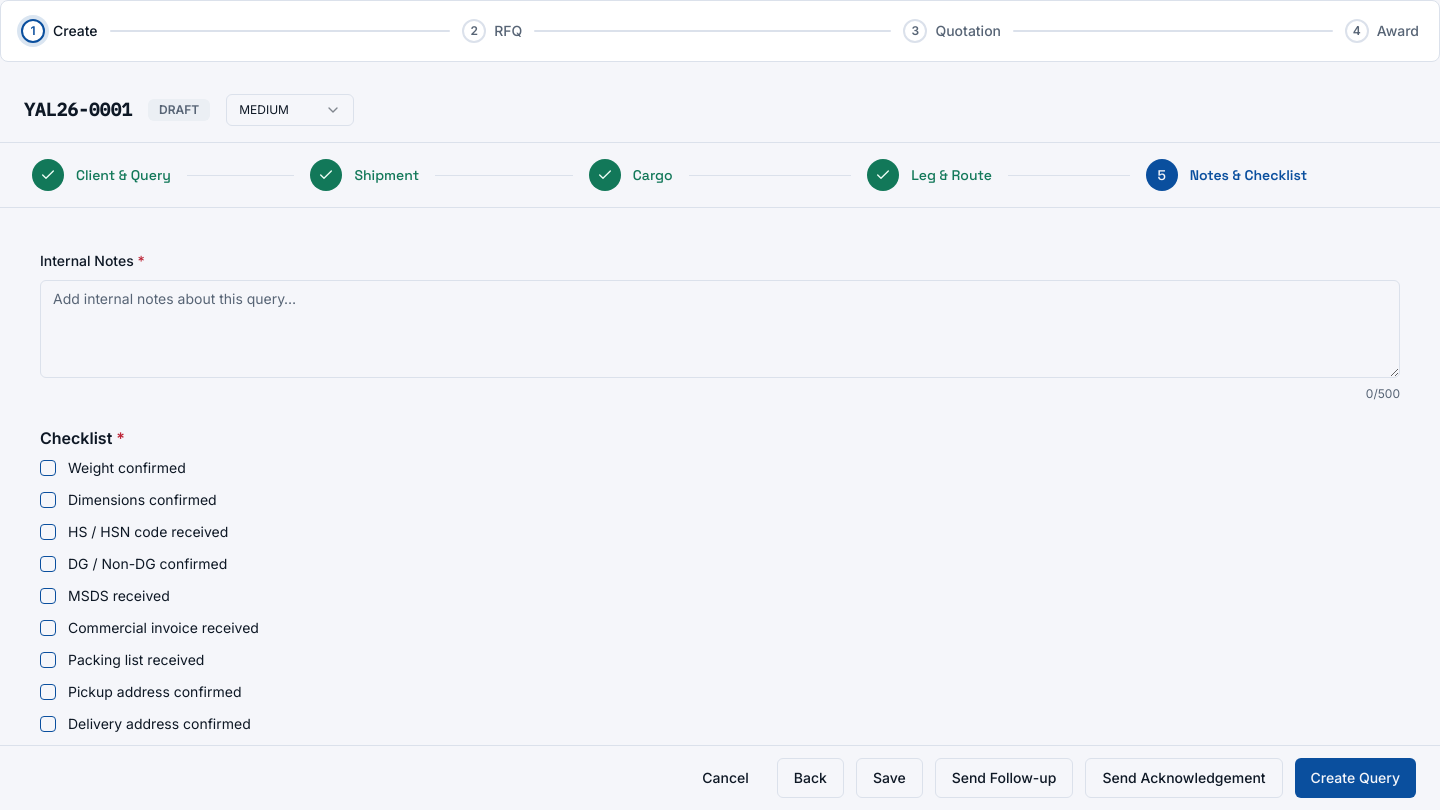
Test: WizardShell › shows the ValidationSummary and stepper badges for create findings, and navigates on click
Note: Navigate to the final step and click Create Query
Click the button "Create Query" at {"x": 1355, "y": 778}, box [1295,758,1416,798]
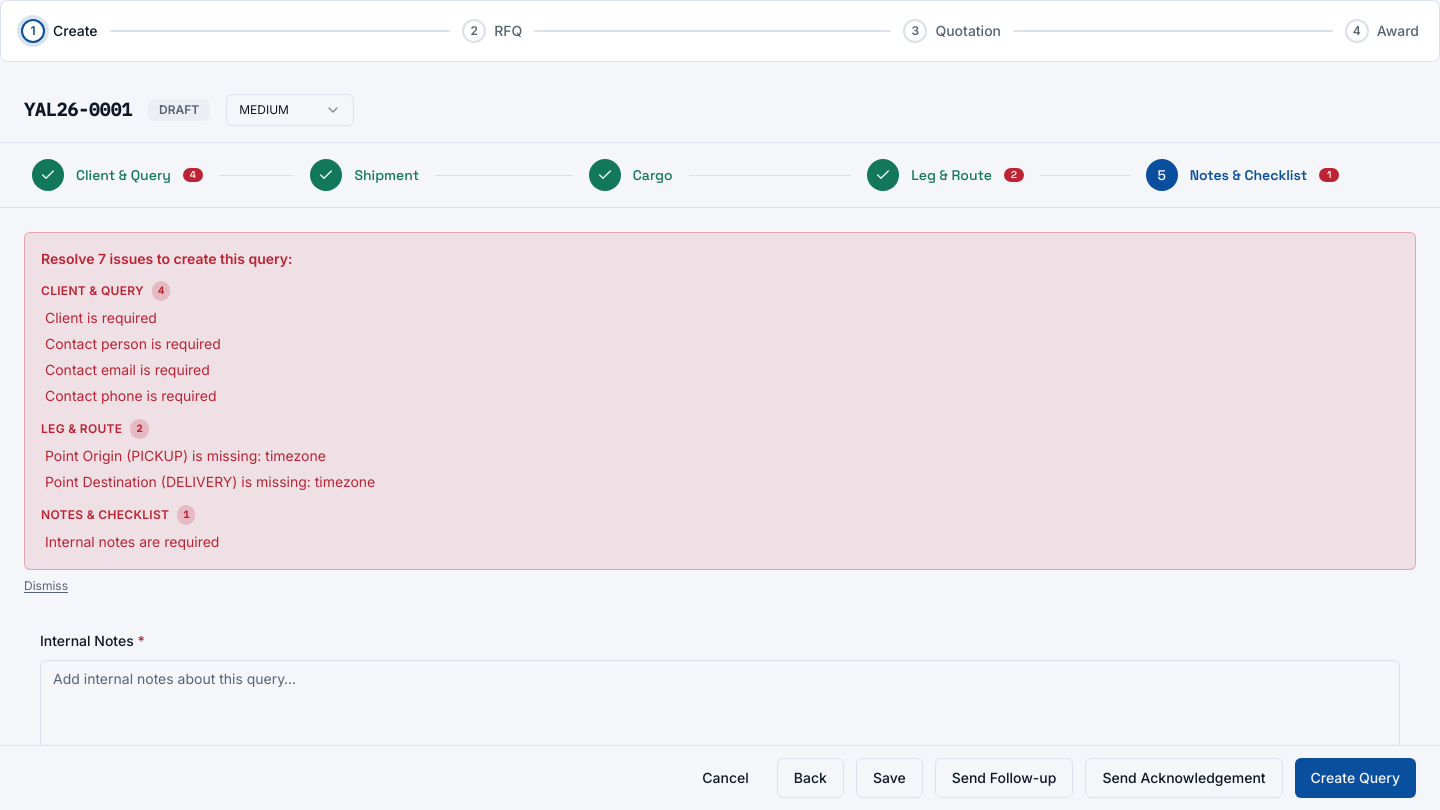
Check: the text "Resolve 7 issues to create this query:" is shown, box [41,250,293,267]
Check: the 2nd text labelled "1" is shown, box [1319,168,1339,182]
Check: the 2nd text labelled "4" is shown, box [183,168,203,182]
